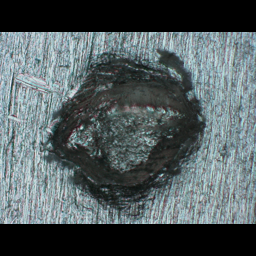d: (33, 42, 208, 221)
